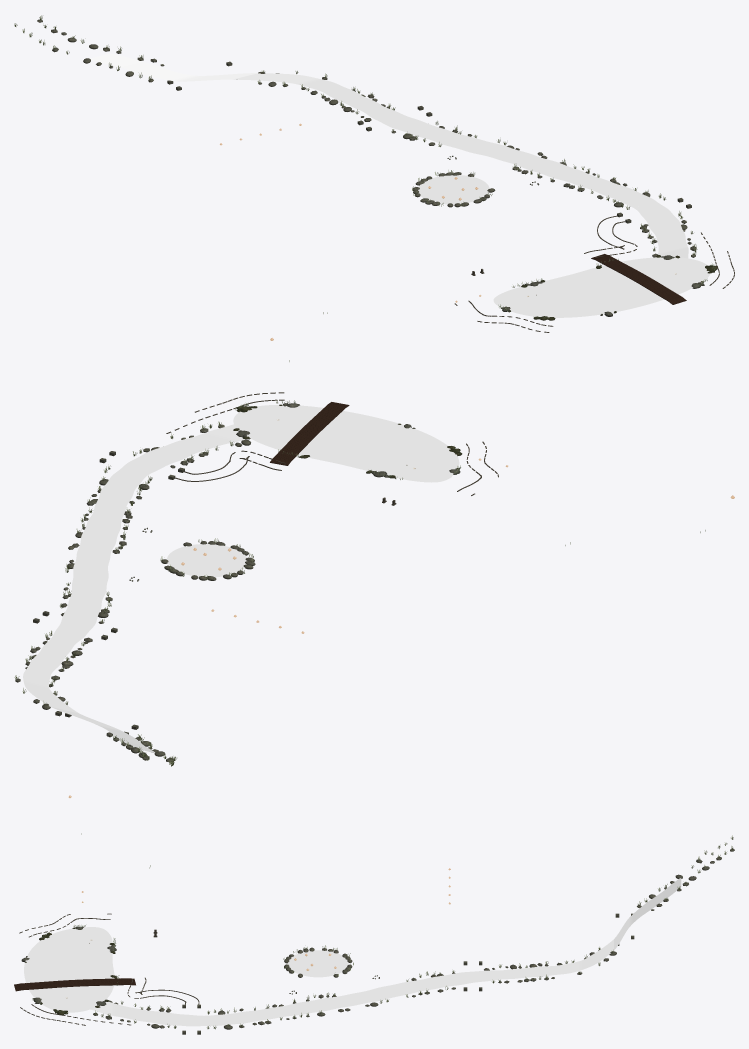
File: water.gltf
The picture shows the model from 3 angles, top to bottom: view 1: azimuth 30°, elevation 25°; view 2: azimuth 150°, elevation 25°; view 3: azimuth 270°, elevation 25°; orthographic projection. The views are drawn at different scales.
Visible parts, largest first — view 1: 동쪽 강 · 물결 (×9), CAFE25 · organic one-pass reflective water, Small lotus pond · coherent deep water, CAFE25 pond · bridge deck · weathered oak · cafe25-bridge:de; view 2: 동쪽 강 · 물결 (×9), CAFE25 · organic one-pass reflective water, Small lotus pond · coherent deep water, CAFE25 pond · bridge deck · weathered oak · cafe25-bridge:de; view 3: 동쪽 강 · 물결 (×9), CAFE25 · organic one-pass reflective water, Small lotus pond · coherent deep water, CAFE25 pond · bridge deck · weathered oak · cafe25-bridge:de.
Part boxes in pixels (box(x1,y1,x2,y2)): 동쪽 강 · 물결 (×9): box(89, 53, 688, 258); CAFE25 · organic one-pass reflective water: box(493, 257, 710, 317); Small lotus pond · coherent deep water: box(418, 175, 489, 204); CAFE25 pond · bridge deck · weathered oak · cafe25-bridge:de: box(591, 254, 686, 304); 동쪽 강 · 물결 (×9): box(23, 424, 245, 752); CAFE25 · organic one-pass reflective water: box(233, 405, 459, 482); Small lotus pond · coherent deep water: box(167, 544, 246, 577); CAFE25 pond · bridge deck · weathered oak · cafe25-bridge:de: box(270, 402, 349, 465); 동쪽 강 · 물결 (×9): box(90, 878, 681, 1026); CAFE25 · organic one-pass reflective water: box(24, 927, 114, 1012); Small lotus pond · coherent deep water: box(288, 950, 348, 977); CAFE25 pond · bridge deck · weathered oak · cafe25-bridge:de: box(14, 978, 135, 991).
Bounding box in the file's own units: 87.97 × 9.05 × 128.
